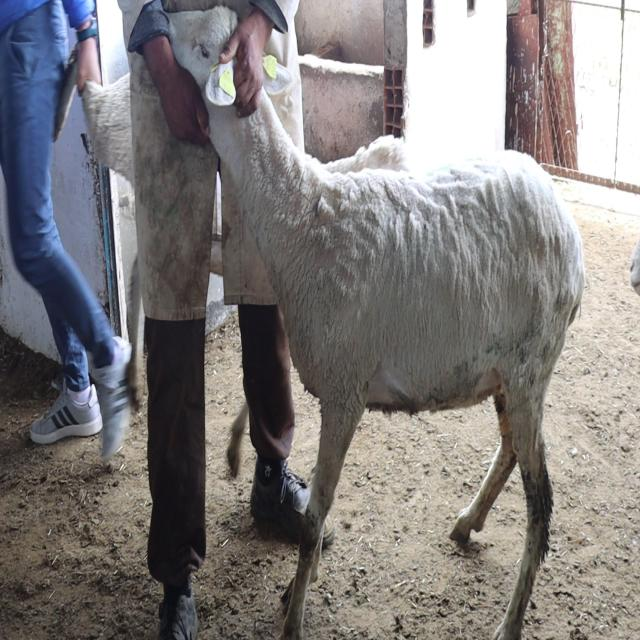Score_5: (167, 6, 585, 639)
